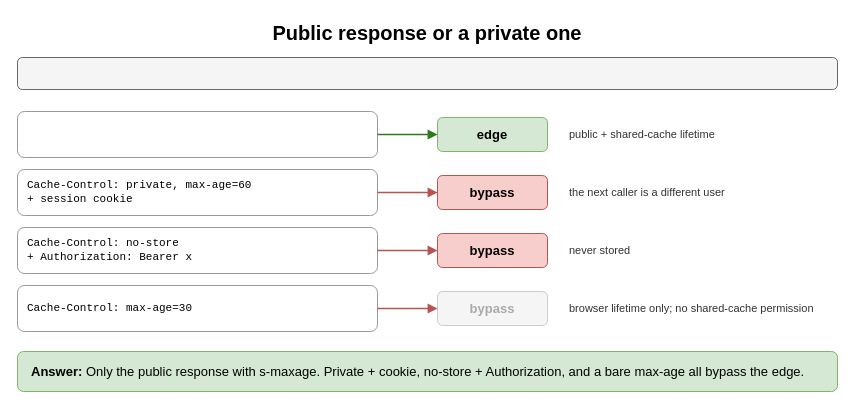
This 855x409 diagram has some shape labels left out. Here are the shapes that lost their labels. From the top down, the box of each, then its label:
(16, 56, 838, 90): Which responses may the edge store?
(16, 110, 378, 158): Cache-Control: public, s-maxage=86400
